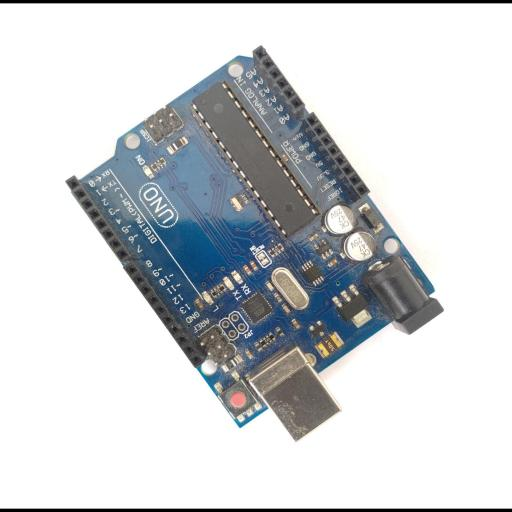Arduino Uno R3: (64, 44, 444, 442)
